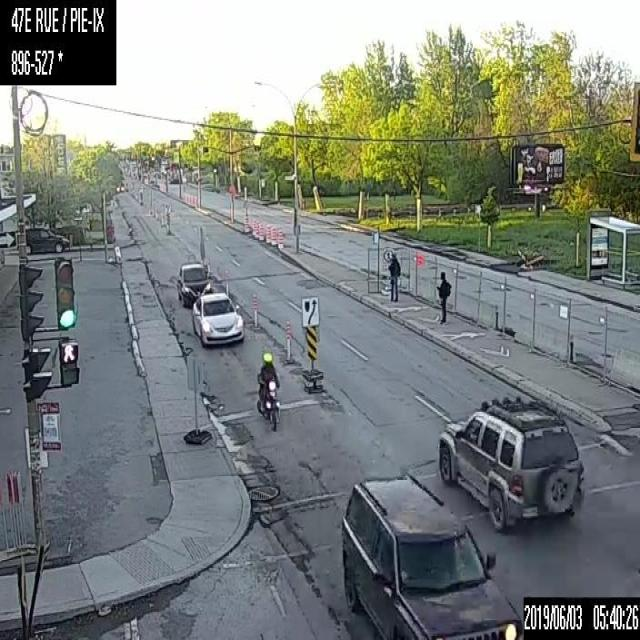construction: (285, 318, 292, 364), (250, 294, 258, 328), (277, 228, 283, 248), (265, 223, 271, 242), (252, 218, 258, 236), (258, 222, 264, 240), (224, 268, 228, 294), (271, 225, 276, 244), (243, 213, 248, 231)
pedestrian: (435, 270, 451, 322), (387, 254, 400, 302)
vehicle: (339, 473, 521, 639), (436, 396, 583, 532), (190, 292, 243, 346), (176, 262, 216, 308), (256, 351, 278, 429), (24, 226, 66, 253)
